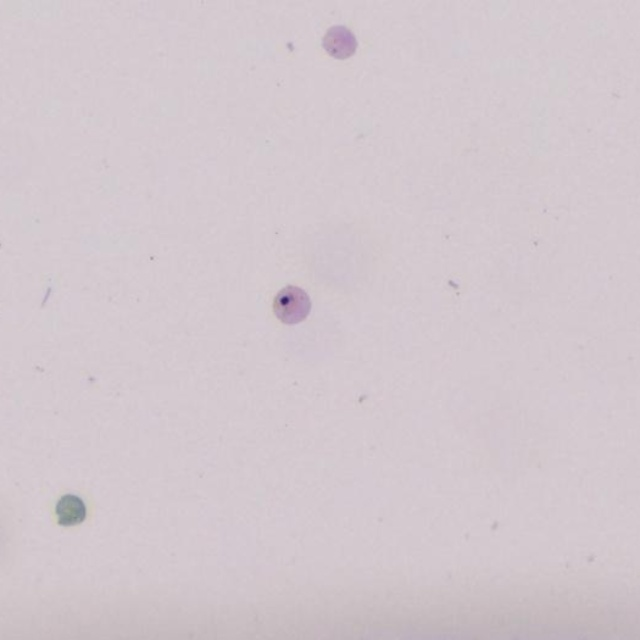intermediate: (273, 285, 310, 324), (322, 26, 356, 59)
non_viable: (55, 495, 85, 525)
